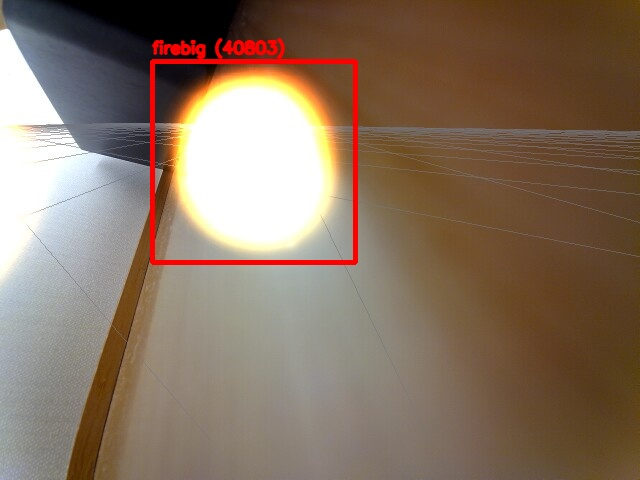firebig: (152, 61, 355, 262)
